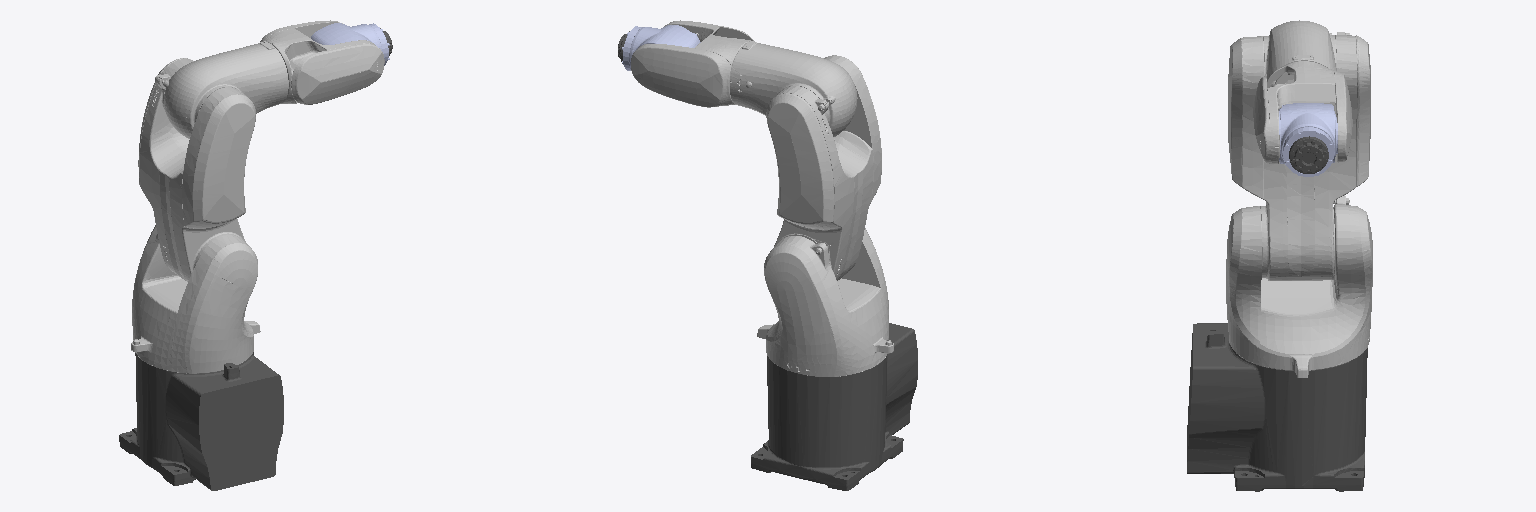
The robot description file, URDF, robot "KUKA_KR3":
<?xml version="1.0" encoding="utf-8"?>
<!-- This URDF was automatically created by SolidWorks to URDF Exporter! Originally created by [author] ([email redacted]) 
     Commit Version: 1.5.1-0-g916b5db  Build Version: 1.5.7152.31018
     For more information, please see http://wiki.ros.org/sw_urdf_exporter -->
<robot
  name="KUKA_KR3">
  <link
    name="base_link">
    <inertial>
      <origin
        xyz="-0.0854311303512497 0.102972856918782 -0.183875687501215"
        rpy="0 0 0" />
      <mass
        value="6.41959892656427" />
      <inertia
        ixx="0.0440782025673444"
        ixy="-2.40576737669496E-08"
        ixz="5.24545953573654E-06"
        iyy="0.0407401961462626"
        iyz="-0.000998374024435137"
        izz="0.0305147049064636" />
    </inertial>
    <visual>
      <origin
        xyz="0 0 0"
        rpy="0 0 0" />
      <geometry>
        <mesh
          filename="package://KUKA_KR3/meshes/base_link.STL" />
      </geometry>
      <material
        name="">
        <color
          rgba="0.4 0.4 0.4 1" />
      </material>
    </visual>
    <collision>
      <origin
        xyz="0 0 0"
        rpy="0 0 0" />
      <geometry>
        <mesh
          filename="package://KUKA_KR3/meshes/base_link.STL" />
      </geometry>
    </collision>
  </link>
  <link
    name="link1">
    <inertial>
      <origin
        xyz="-0.00347807973017336 0.00146992673482851 0.0799016270869318"
        rpy="0 0 0" />
      <mass
        value="3.42718819496082" />
      <inertia
        ixx="0.0207752890396649"
        ixy="-7.62714104503634E-05"
        ixz="-0.00078231417240016"
        iyy="0.0147096395429483"
        iyz="-0.000400718157158541"
        izz="0.0167150763698443" />
    </inertial>
    <visual>
      <origin
        xyz="0 0 0"
        rpy="0 0 0" />
      <geometry>
        <mesh
          filename="package://KUKA_KR3/meshes/link1.STL" />
      </geometry>
      <material
        name="">
        <color
          rgba="0.8 0.8 0.8 1" />
      </material>
    </visual>
    <collision>
      <origin
        xyz="0 0 0"
        rpy="0 0 0" />
      <geometry>
        <mesh
          filename="package://KUKA_KR3/meshes/link1.STL" />
      </geometry>
    </collision>
  </link>
  <joint
    name="base_link1"
    type="revolute">
    <origin
      xyz="-0.085431 0.21303 0.18352"
      rpy="0 0 0.037574" />
    <parent
      link="base_link" />
    <child
      link="link1" />
    <axis
      xyz="0 0 1" />
    <limit
      lower="0"
      upper="6.28"
      effort="0"
      velocity="0" />
  </joint>
  <link
    name="link2">
    <inertial>
      <origin
        xyz="0.057368388436744 -0.216090811466013 -0.354520428752544"
        rpy="0 0 0" />
      <mass
        value="0" />
      <inertia
        ixx="0"
        ixy="0"
        ixz="0"
        iyy="0"
        iyz="0"
        izz="0" />
    </inertial>
    <visual>
      <origin
        xyz="0 0 0"
        rpy="0 0 0" />
      <geometry>
        <mesh
          filename="package://KUKA_KR3/meshes/link2.STL" />
      </geometry>
      <material
        name="">
        <color
          rgba="0.8 0.8 0.8 1" />
      </material>
    </visual>
    <collision>
      <origin
        xyz="0 0 0"
        rpy="0 0 0" />
      <geometry>
        <mesh
          filename="package://KUKA_KR3/meshes/link2.STL" />
      </geometry>
    </collision>
  </link>
  <joint
    name="link1_link2"
    type="revolute">
    <origin
      xyz="0.02 0 0.171"
      rpy="0 0 0" />
    <parent
      link="link1" />
    <child
      link="link2" />
    <axis
      xyz="0 1 0" />
    <limit
      lower="-1.57"
      upper="1.57"
      effort="0"
      velocity="0" />
  </joint>
  <link
    name="link3">
    <inertial>
      <origin
        xyz="0.0267266424243783 0.000229019170920081 0.00786391533508379"
        rpy="0 0 0" />
      <mass
        value="1.69265066619873" />
      <inertia
        ixx="0.0029034743338444"
        ixy="1.1256423991612E-05"
        ixz="-0.000540406681564272"
        iyy="0.0051754250507688"
        iyz="1.89018101421392E-06"
        izz="0.00491633918516771" />
    </inertial>
    <visual>
      <origin
        xyz="0 0 0"
        rpy="0 0 0" />
      <geometry>
        <mesh
          filename="package://KUKA_KR3/meshes/link3.STL" />
      </geometry>
      <material
        name="">
        <color
          rgba="0.8 0.8 0.8 1" />
      </material>
    </visual>
    <collision>
      <origin
        xyz="0 0 0"
        rpy="0 0 0" />
      <geometry>
        <mesh
          filename="package://KUKA_KR3/meshes/link3.STL" />
      </geometry>
    </collision>
  </link>
  <joint
    name="link2_link3"
    type="revolute">
    <origin
      xyz="0 0 0.26"
      rpy="0 0 0" />
    <parent
      link="link2" />
    <child
      link="link3" />
    <axis
      xyz="0 1 0" />
    <limit
      lower="0"
      upper="3.14"
      effort="0"
      velocity="0" />
  </joint>
  <link
    name="link4">
    <inertial>
      <origin
        xyz="-0.0560927161848443 0.21609081146601 0.634520428752545"
        rpy="0 0 0" />
      <mass
        value="0" />
      <inertia
        ixx="0"
        ixy="0"
        ixz="0"
        iyy="0"
        iyz="0"
        izz="0" />
    </inertial>
    <visual>
      <origin
        xyz="0 0 0"
        rpy="0 0 0" />
      <geometry>
        <mesh
          filename="package://KUKA_KR3/meshes/link4.STL" />
      </geometry>
      <material
        name="">
        <color
          rgba="0.8 0.8 0.8 1" />
      </material>
    </visual>
    <collision>
      <origin
        xyz="0 0 0"
        rpy="0 0 0" />
      <geometry>
        <mesh
          filename="package://KUKA_KR3/meshes/link4.STL" />
      </geometry>
    </collision>
  </link>
  <joint
    name="link3_link4"
    type="continuous">
    <origin
      xyz="0.11346 0 0.02"
      rpy="3.1416 0 0" />
    <parent
      link="link3" />
    <child
      link="link4" />
    <axis
      xyz="1 0 0" />
    <limit
      lower="0"
      upper="6.28"
      effort="0"
      velocity="0" />
  </joint>
  <link
    name="link5">
    <inertial>
      <origin
        xyz="0.00471269378757111 0.000218196987115615 -2.5016357525498E-06"
        rpy="0 0 0" />
      <mass
        value="0.584322151782088" />
      <inertia
        ixx="0.000523692325333931"
        ixy="-6.20067767191829E-06"
        ixz="-5.30444445704167E-08"
        iyy="0.000718563531518435"
        iyz="4.45143746776083E-08"
        izz="0.000784489084918906" />
    </inertial>
    <visual>
      <origin
        xyz="0 0 0"
        rpy="0 0 0" />
      <geometry>
        <mesh
          filename="package://KUKA_KR3/meshes/link5.STL" />
      </geometry>
      <material
        name="">
        <color
          rgba="0.792156862745098 0.819607843137255 0.933333333333333 1" />
      </material>
    </visual>
    <collision>
      <origin
        xyz="0 0 0"
        rpy="0 0 0" />
      <geometry>
        <mesh
          filename="package://KUKA_KR3/meshes/link5.STL" />
      </geometry>
    </collision>
  </link>
  <joint
    name="link4_link5"
    type="revolute">
    <origin
      xyz="0.14654 0 0"
      rpy="0 0 0" />
    <parent
      link="link4" />
    <child
      link="link5" />
    <axis
      xyz="0 1 0" />
    <limit
      lower="-1.57"
      upper="1.57"
      effort="0"
      velocity="0" />
  </joint>
  <link
    name="gripper_base">
    <inertial>
      <origin
        xyz="0.00839011559865566 -5.51303750961907E-06 -9.66759183576582E-06"
        rpy="0 0 0" />
      <mass
        value="0.0159935646528506" />
      <inertia
        ixx="5.51985374400613E-06"
        ixy="-4.09232179197518E-10"
        ixz="3.61366339245632E-10"
        iyy="2.95916881296572E-06"
        iyz="8.52463897835303E-13"
        izz="2.95924108795062E-06" />
    </inertial>
    <visual>
      <origin
        xyz="0 0 0"
        rpy="0 0 0" />
      <geometry>
        <mesh
          filename="package://KUKA_KR3/meshes/gripper_base.STL" />
      </geometry>
      <material
        name="">
        <color
          rgba="0.4 0.4 0.4 1" />
      </material>
    </visual>
    <collision>
      <origin
        xyz="0 0 0"
        rpy="0 0 0" />
      <geometry>
        <mesh
          filename="package://KUKA_KR3/meshes/gripper_base.STL" />
      </geometry>
    </collision>
  </link>
  <joint
    name="link5_gripper_base"
    type="revolute">
    <origin
      xyz="0.059023 0 0"
      rpy="-1.5708 0 0" />
    <parent
      link="link5" />
    <child
      link="gripper_base" />
    <axis
      xyz="1 0 0" />
    <limit
      lower="0"
      upper="6.28"
      effort="0"
      velocity="0" />
  </joint>
</robot>

--- Render facts (derived) ---
3 views of the same robot in one strip: view 1: azimuth 30°, elevation 25°; view 2: azimuth 150°, elevation 25°; view 3: azimuth 270°, elevation 25° (orthographic).
Robot: KUKA_KR3 — 7 links, 6 joints (5 revolute, 1 continuous); root link base_link; default pose: all joints at 0.
Visible links, largest first — view 1: base_link, link2, link1, link3, link4, link5; view 2: base_link, link2, link1, link4, link3, link5; view 3: base_link, link1, link2, link4, link3, link5, gripper_base.
Boxes of the visible links, x1=… form: base_link: x1=119, y1=352, x2=283, y2=490; link2: x1=138, y1=58, x2=255, y2=281; link1: x1=131, y1=225, x2=260, y2=373; link3: x1=163, y1=41, x2=288, y2=138; link4: x1=260, y1=20, x2=384, y2=104; link5: x1=311, y1=23, x2=389, y2=65; base_link: x1=751, y1=323, x2=917, y2=490; link2: x1=766, y1=55, x2=881, y2=280; link1: x1=757, y1=228, x2=893, y2=376; link4: x1=631, y1=20, x2=753, y2=107; link3: x1=730, y1=41, x2=857, y2=136; link5: x1=622, y1=25, x2=700, y2=70; base_link: x1=1187, y1=323, x2=1367, y2=491; link1: x1=1226, y1=195, x2=1372, y2=377; link2: x1=1228, y1=32, x2=1370, y2=280; link4: x1=1253, y1=61, x2=1352, y2=163; link3: x1=1263, y1=20, x2=1336, y2=80; link5: x1=1279, y1=103, x2=1337, y2=176; gripper_base: x1=1289, y1=136, x2=1328, y2=173.
Size in the robot's own frame: 0.4714 by 0.2545 by 0.6765 metres.
Meshes: 7 distinct files referenced, 7 mesh visuals loaded (7 binary STL).